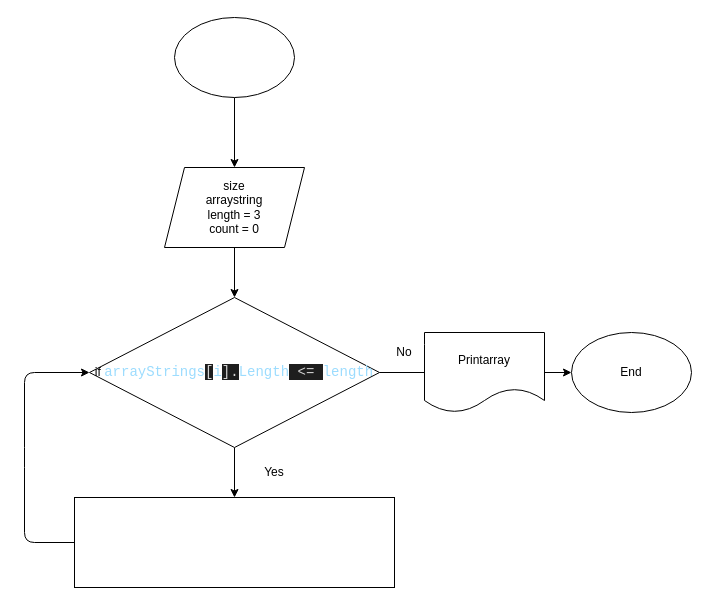
This 709x605 diagram has some shape labels left out. The shapes that lost their labels are listed below. From the top down, each one's centre as x and y in pixels, then its label:
At [234,57]: "Start".
At [234,542]: "arraysecond [ count ] = arrayStrings [ i ]; count ++ i ++".
